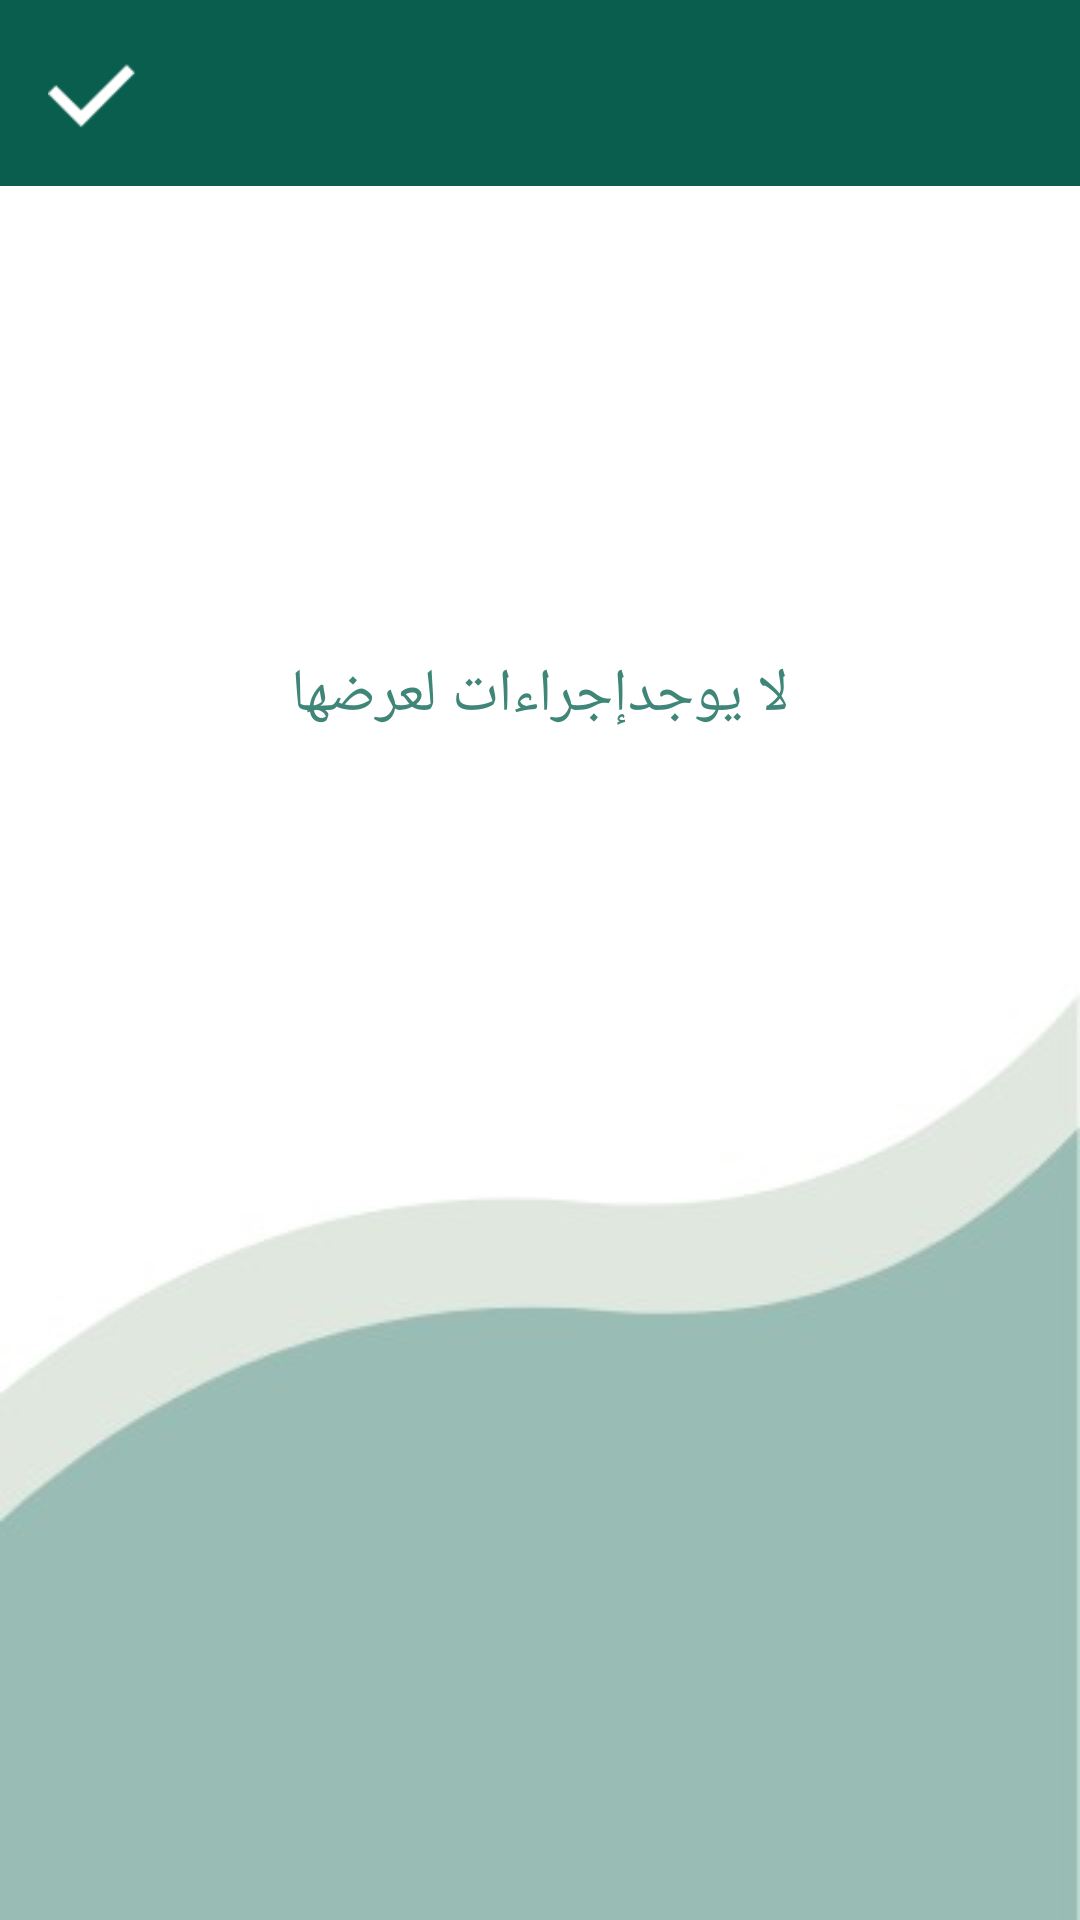

Screen size 1080*1920. Icon name, then its box in pixels as (x1, y1, x2, y2):
right: (48, 64, 135, 127)
